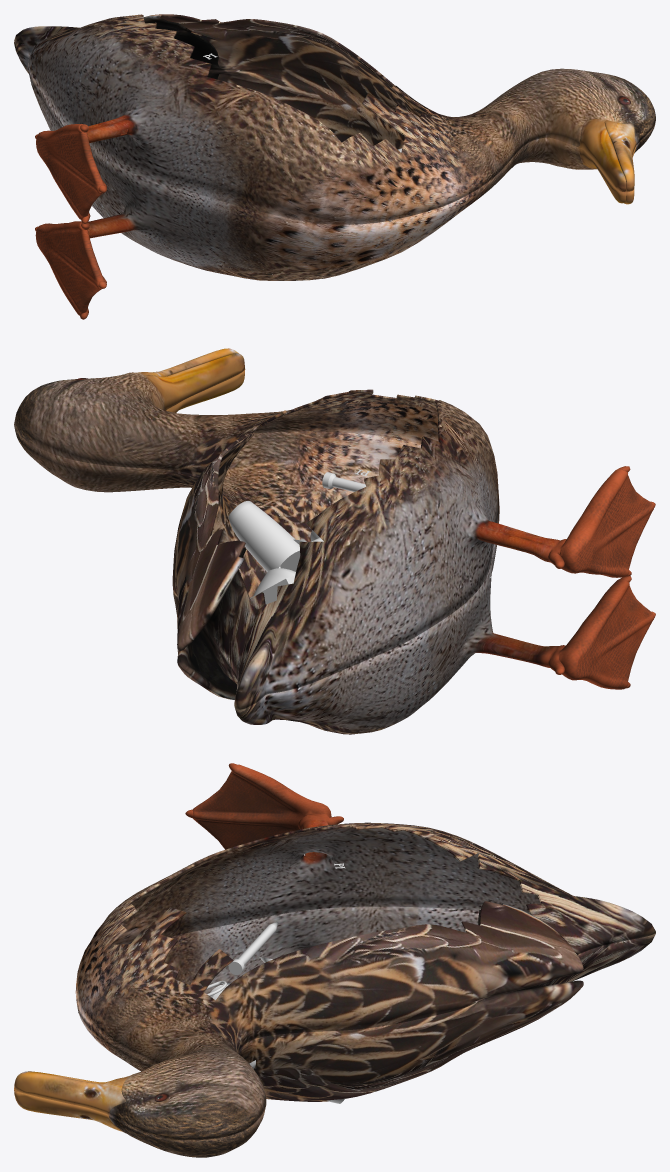
The model's file is duckwPlastic.fbx.
The picture shows the model from 3 angles, top to bottom: view 1: azimuth 30°, elevation 25°; view 2: azimuth 150°, elevation 25°; view 3: azimuth 270°, elevation 25°; orthographic projection. The views are drawn at different scales.
Parts seen in each view (by area): view 1: 12249_Bird_v1; view 2: 12249_Bird_v1, Mesh12 Group8 Group5 OPI_Nail_Polish_Bottle_12_1 Model; view 3: 12249_Bird_v1, Mesh3 Component_1_3 Model.
Part boxes in pixels (x1,y1,x2,y2): 12249_Bird_v1: (14, 14, 655, 319); 12249_Bird_v1: (14, 348, 655, 734); Mesh12 Group8 Group5 OPI_Nail_Polish_Bottle_12_1 Model: (228, 501, 299, 572); 12249_Bird_v1: (14, 763, 655, 1157); Mesh3 Component_1_3 Model: (228, 921, 278, 974).
Size of the model in its own units: 1419 by 547 by 1380.
